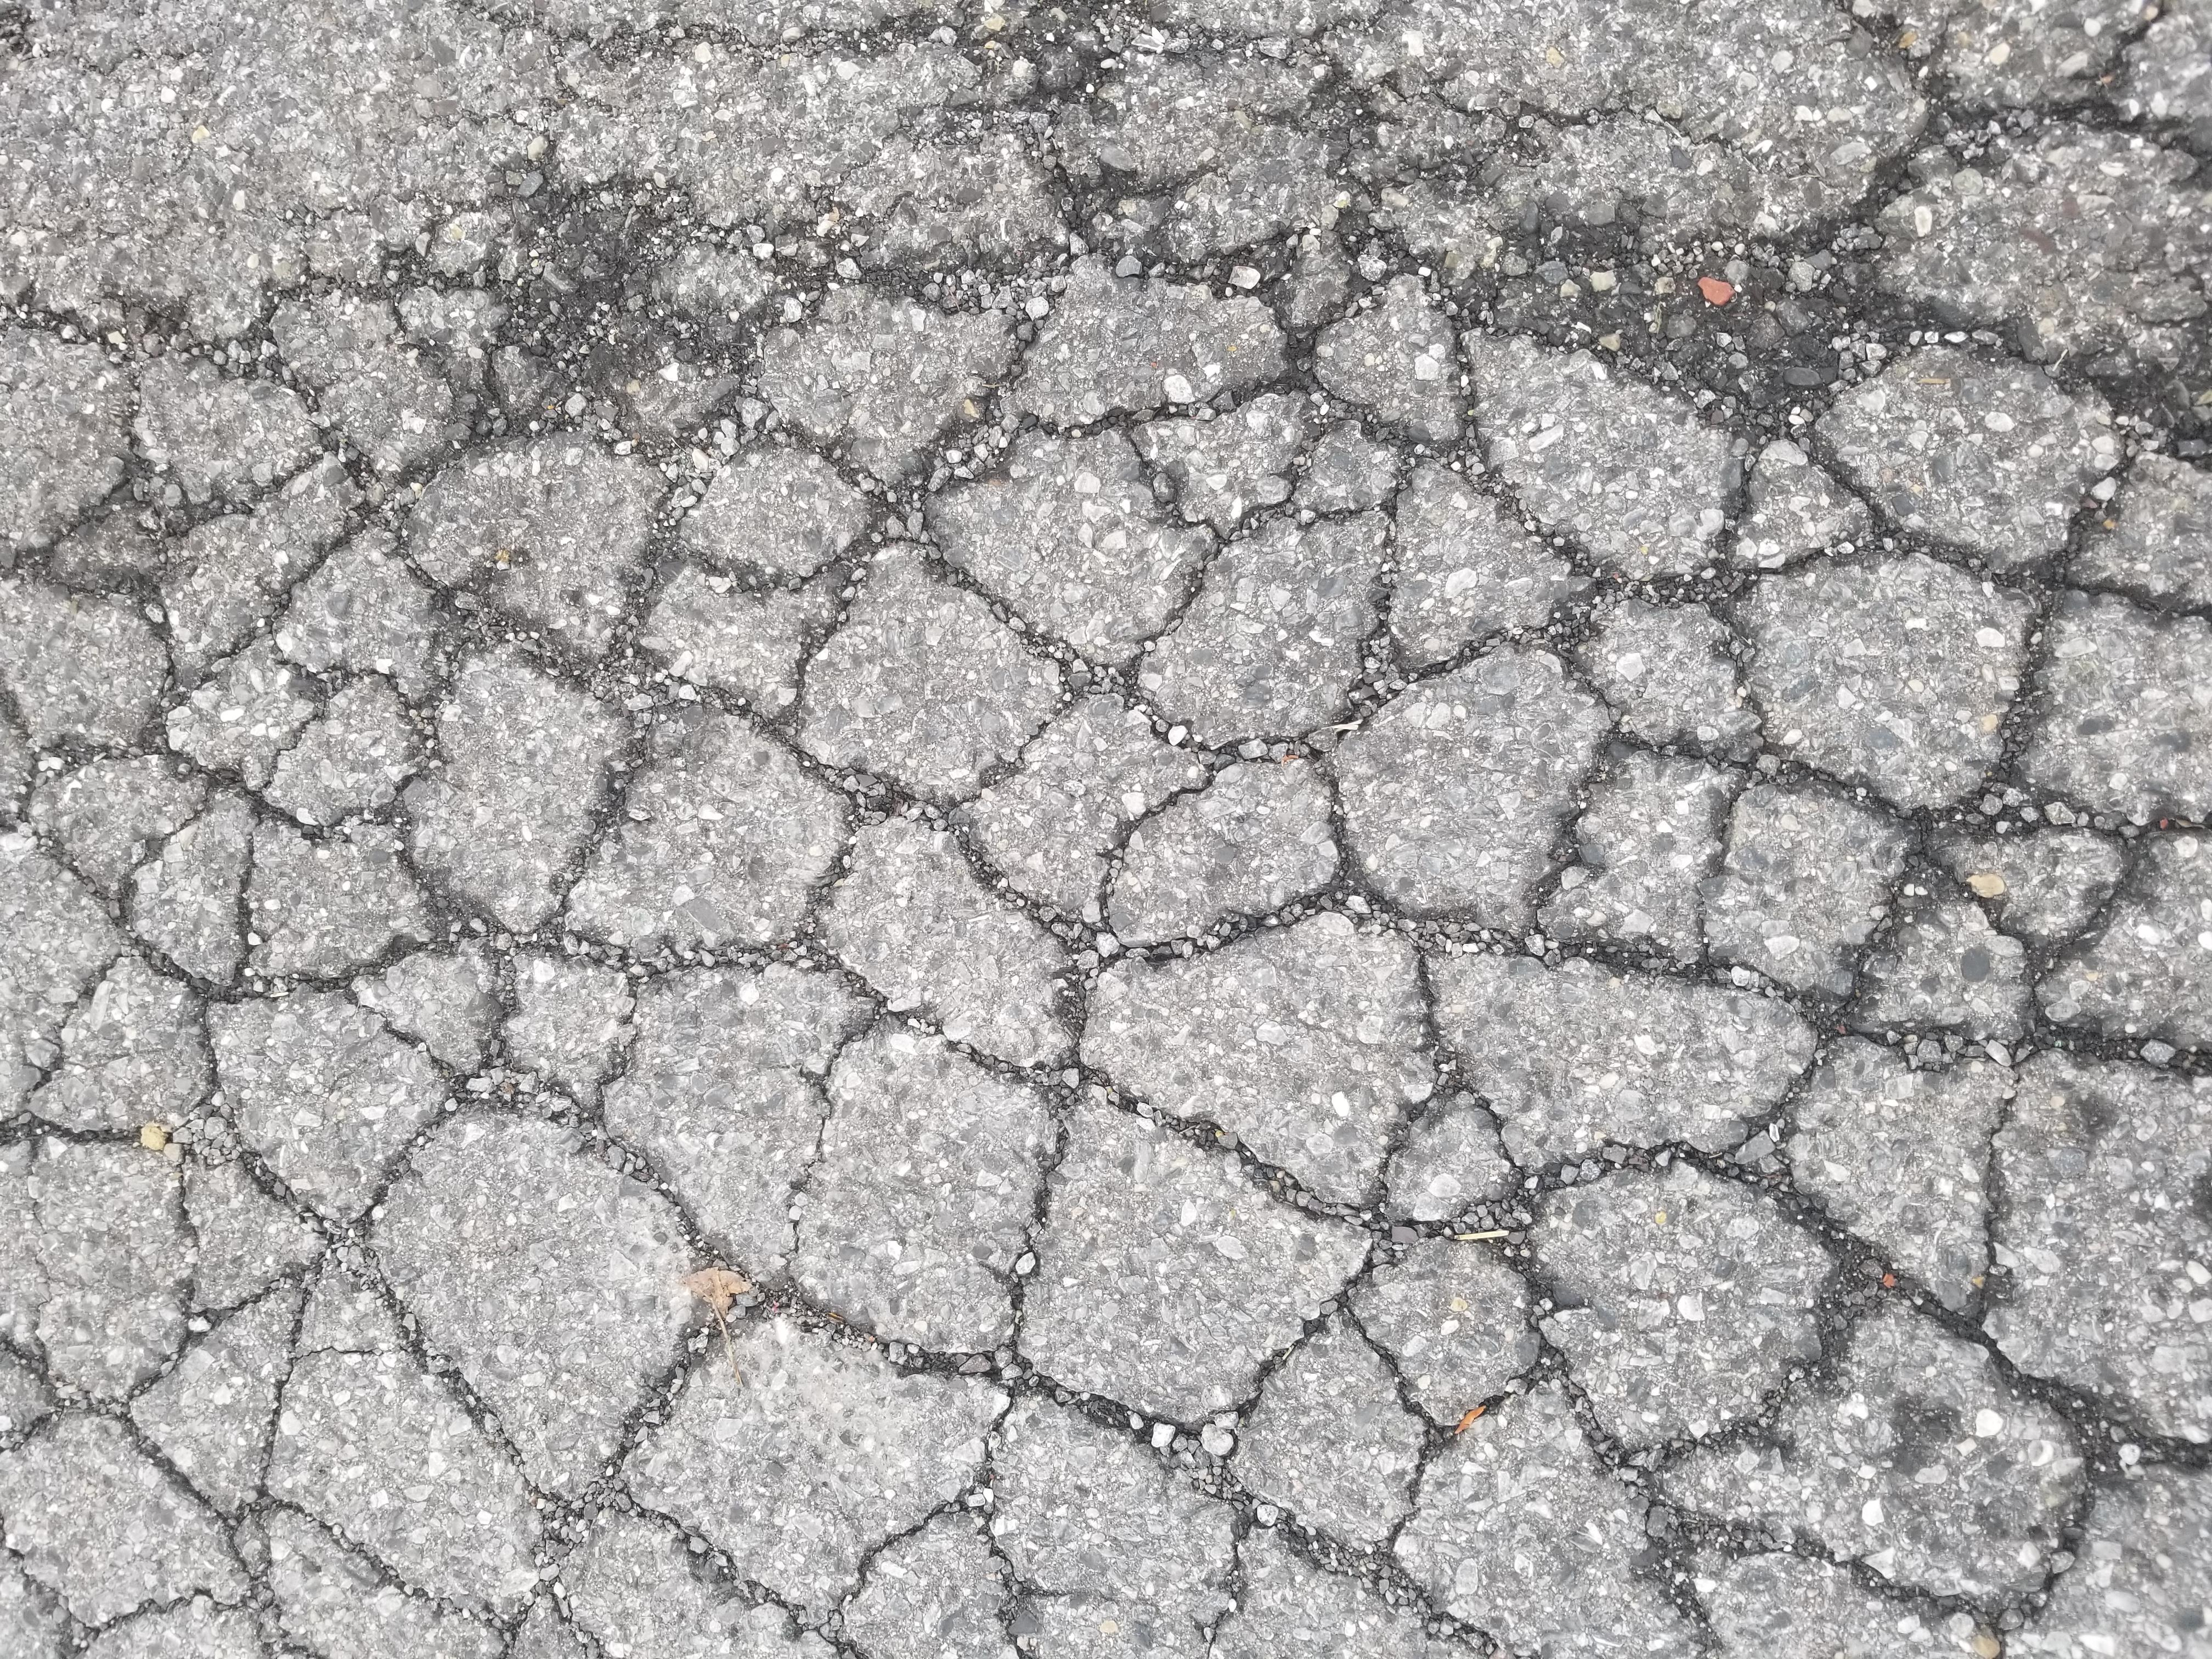alligator-crack: (9, 0, 2212, 1659)
